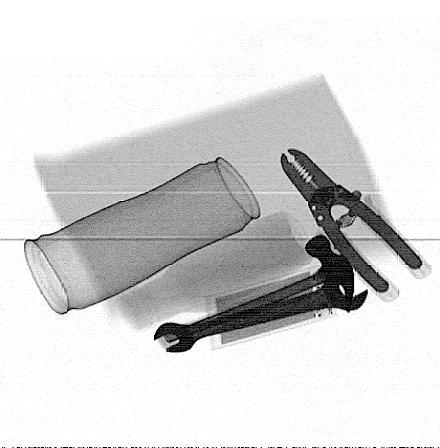Hammer: (155, 234, 354, 350)
Pliers: (281, 148, 432, 302)
Powerbank: (205, 263, 338, 351)
Wrench: (153, 268, 368, 352)
